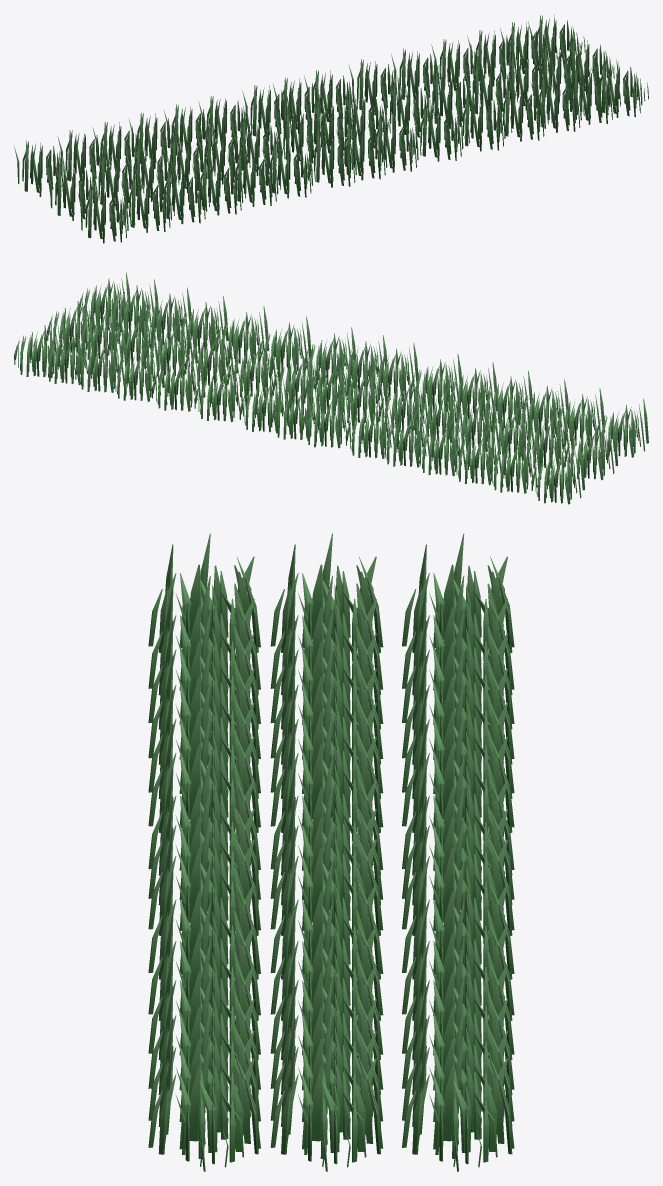
The model's file is field.fbx.
3 renders of one model, top to bottom at view 1: azimuth 30°, elevation 25°; view 2: azimuth 150°, elevation 25°; view 3: azimuth 270°, elevation 25°, orthographic. The views are drawn at different scales.
Parts seen in each view (by area): view 1: GrassLumpLargeFTall__1_, GrassLumpLargeFTall_9, GrassLumpLargeFTall__3_, GrassLumpLargeFTall__2_, GrassLumpLargeFTall_8, GrassLumpLargeFTall_3, GrassLumpLargeFTall_4, GrassLumpLargeFTall__6_, GrassLumpLargeFTall_27, GrassLumpLargeFTall__4_, GrassLumpLargeFTall_7, GrassLumpLargeFTall_5 (+33 smaller); view 2: GrassLumpLargeFTall_27, GrassLumpLargeFTall__1__5, GrassLumpLargeFTall__2__4, GrassLumpLargeFTall_18, GrassLumpLargeFTall__3__5, GrassLumpLargeFTall_26, GrassLumpLargeFTall_21, GrassLumpLargeFTall_19, GrassLumpLargeFTall_22, GrassLumpLargeFTall_24, GrassLumpLargeFTall_23, GrassLumpLargeFTall__1__3 (+33 smaller); view 3: GrassLumpLargeFTall__6_, GrassLumpLargeFTall__6__2, GrassLumpLargeFTall__6__4, GrassLumpLargeFTall, GrassLumpLargeFTall_10, GrassLumpLargeFTall_19, GrassLumpLargeFTall_4, GrassLumpLargeFTall_13, GrassLumpLargeFTall_9, GrassLumpLargeFTall_22, GrassLumpLargeFTall_18, GrassLumpLargeFTall_27 (+33 smaller).
Boxes of the visible parts, x1=… form: GrassLumpLargeFTall__1_: x1=412, y1=105, x2=469, y2=161; GrassLumpLargeFTall_9: x1=77, y1=187, x2=135, y2=243; GrassLumpLargeFTall__3_: x1=494, y1=85, x2=552, y2=141; GrassLumpLargeFTall__2_: x1=454, y1=95, x2=512, y2=151; GrassLumpLargeFTall_8: x1=121, y1=176, x2=177, y2=232; GrassLumpLargeFTall_3: x1=306, y1=131, x2=359, y2=187; GrassLumpLargeFTall_4: x1=262, y1=141, x2=319, y2=198; GrassLumpLargeFTall__6_: x1=591, y1=61, x2=648, y2=117; GrassLumpLargeFTall_27: x1=14, y1=140, x2=71, y2=196; GrassLumpLargeFTall__4_: x1=530, y1=76, x2=588, y2=132; GrassLumpLargeFTall_7: x1=156, y1=168, x2=213, y2=224; GrassLumpLargeFTall_5: x1=227, y1=150, x2=280, y2=206; GrassLumpLargeFTall_27: x1=531, y1=445, x2=584, y2=504; GrassLumpLargeFTall__1__5: x1=194, y1=363, x2=247, y2=422; GrassLumpLargeFTall__2__4: x1=151, y1=353, x2=205, y2=411; GrassLumpLargeFTall_18: x1=564, y1=421, x2=617, y2=480; GrassLumpLargeFTall__3__5: x1=112, y1=343, x2=164, y2=401; GrassLumpLargeFTall_26: x1=490, y1=435, x2=541, y2=493; GrassLumpLargeFTall_21: x1=302, y1=389, x2=355, y2=448; GrassLumpLargeFTall_19: x1=239, y1=374, x2=291, y2=433; GrassLumpLargeFTall_22: x1=345, y1=400, x2=399, y2=458; GrassLumpLargeFTall_24: x1=416, y1=417, x2=468, y2=476; GrassLumpLargeFTall_23: x1=381, y1=409, x2=433, y2=467; GrassLumpLargeFTall__1__3: x1=227, y1=339, x2=280, y2=397; GrassLumpLargeFTall__6_: x1=148, y1=1035, x2=260, y2=1171; GrassLumpLargeFTall__6__2: x1=270, y1=1035, x2=383, y2=1171; GrassLumpLargeFTall__6__4: x1=402, y1=1035, x2=514, y2=1171; GrassLumpLargeFTall: x1=148, y1=816, x2=260, y2=943; GrassLumpLargeFTall_10: x1=270, y1=816, x2=383, y2=943; GrassLumpLargeFTall_19: x1=402, y1=816, x2=514, y2=943; GrassLumpLargeFTall_4: x1=148, y1=713, x2=260, y2=840; GrassLumpLargeFTall_13: x1=270, y1=713, x2=383, y2=840; GrassLumpLargeFTall_9: x1=148, y1=533, x2=260, y2=660; GrassLumpLargeFTall_22: x1=402, y1=713, x2=514, y2=840; GrassLumpLargeFTall_18: x1=270, y1=533, x2=383, y2=660; GrassLumpLargeFTall_27: x1=402, y1=533, x2=514, y2=660.
Size of the model in its own units: 1294 by 107 by 365.
